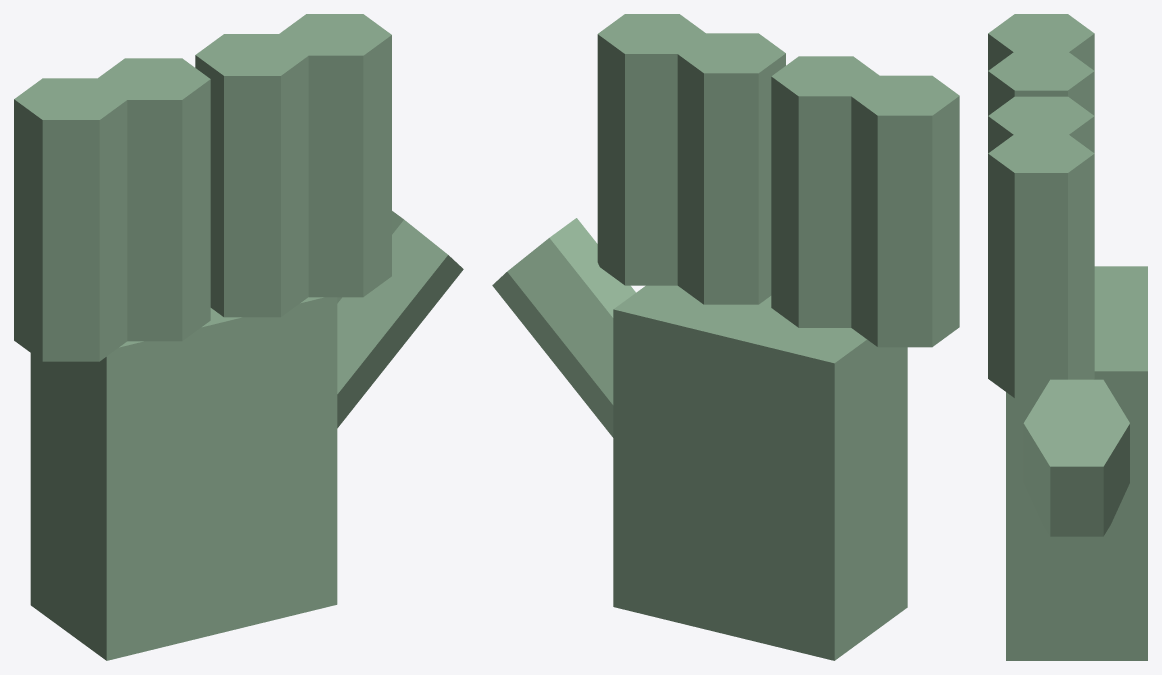
The model's file is troll_hands.dae.
The picture shows the model from 3 angles, left to right: view 1: azimuth 30°, elevation 25°; view 2: azimuth 150°, elevation 25°; view 3: azimuth 270°, elevation 25°; orthographic projection. The views are drawn at different scales.
Visible parts, largest first — view 1: Cube, Cylinder, Cylinder.002, Cylinder.001, Cylinder.003, Cylinder.004; view 2: Cube, Cylinder, Cylinder.002, Cylinder.003, Cylinder.001, Cylinder.004; view 3: Cube, Cylinder.003, Cylinder.004, Cylinder.001, Cylinder.002, Cylinder.
Boxes of the visible parts, x1,y1,x2,y2 form: Cube: [30, 297, 337, 660]; Cylinder: [14, 78, 127, 361]; Cylinder.002: [195, 34, 308, 317]; Cylinder.001: [97, 58, 210, 341]; Cylinder.003: [278, 14, 391, 297]; Cylinder.004: [337, 211, 463, 428]; Cube: [613, 285, 907, 660]; Cylinder: [851, 75, 959, 347]; Cylinder.002: [677, 33, 785, 304]; Cylinder.003: [597, 14, 706, 285]; Cylinder.001: [771, 56, 879, 327]; Cylinder.004: [492, 218, 635, 437]; Cube: [1006, 266, 1147, 660]; Cylinder.003: [988, 134, 1094, 398]; Cylinder.004: [1023, 379, 1129, 536]; Cylinder.001: [988, 52, 1094, 115]; Cylinder.002: [988, 96, 1094, 153]; Cylinder: [988, 14, 1094, 70].
Size of the model in its own units: 26.71 by 9 by 32.
